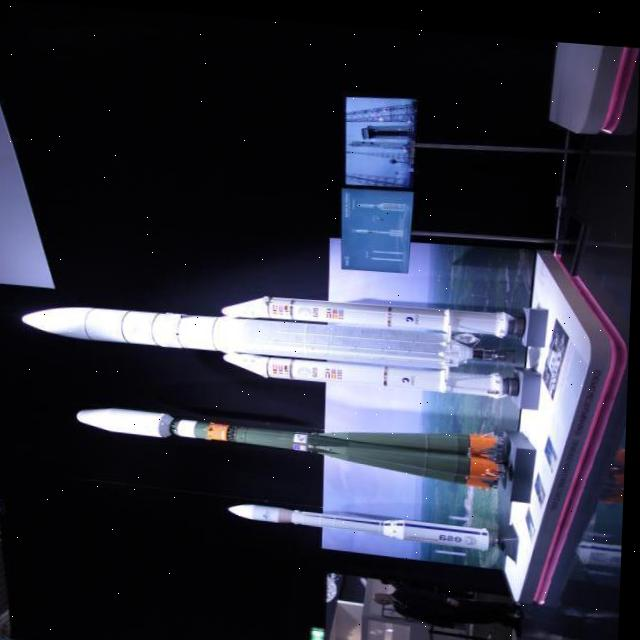missile: (21, 267, 550, 401), (70, 389, 550, 483), (229, 483, 525, 558)
